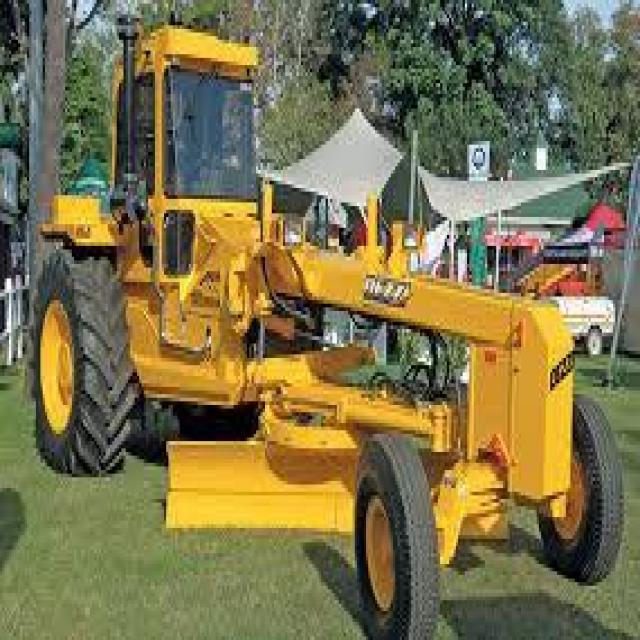Grader: (38, 25, 618, 626)
